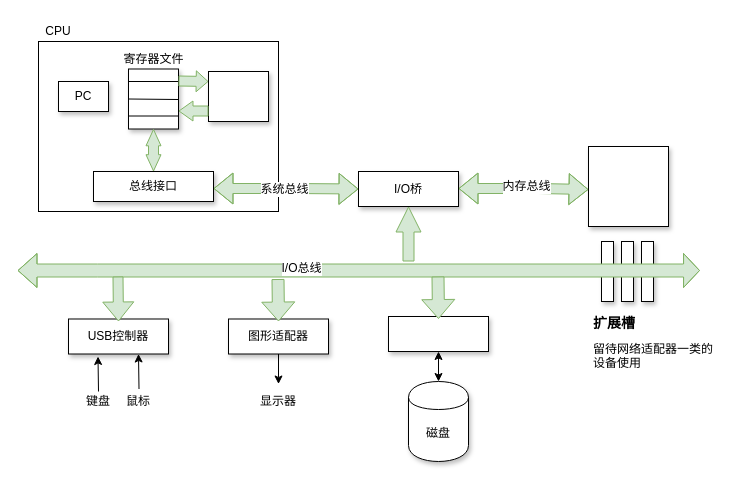
Some shapes in this 744 by 486 pixel diagram are drawn without their labels. The shapes that lost their labels are listed below. From the top down, each one's centre as x and y in pixels, then its label:
At (239,97): "ALU".
At (629,188): "主存储器".
At (439,335): "磁盘控制器".
